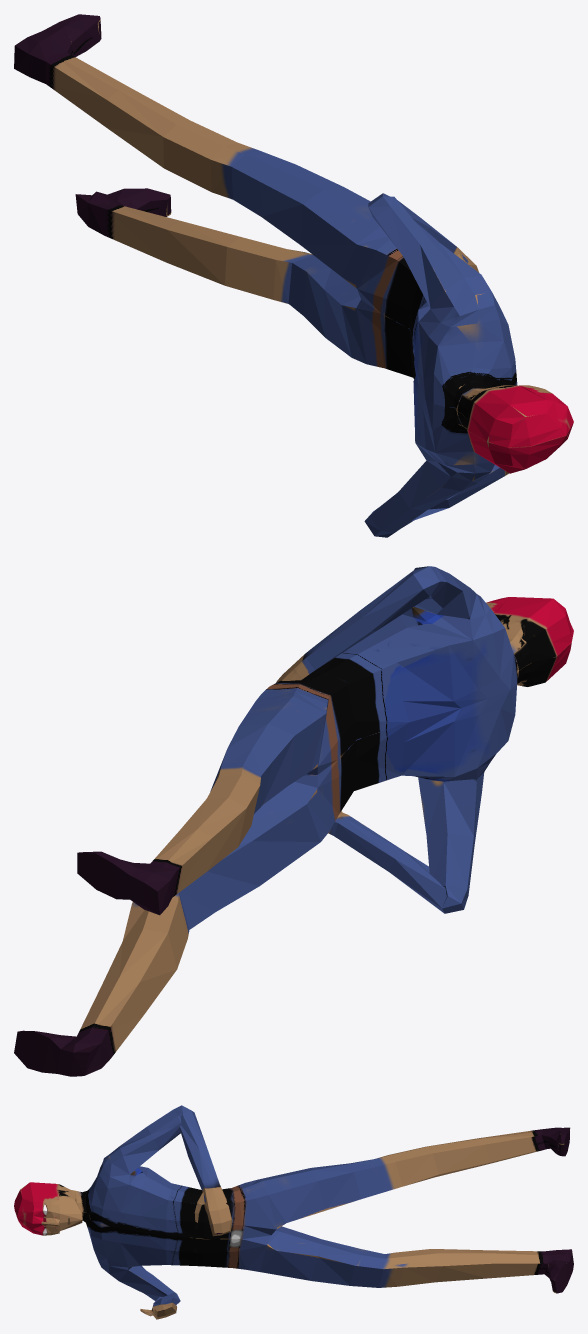
File: mirrorman_000016.obj
The picture shows the model from 3 angles, top to bottom: view 1: azimuth 30°, elevation 25°; view 2: azimuth 150°, elevation 25°; view 3: azimuth 270°, elevation 25°; orthographic projection. The views are drawn at different scales.
Visible parts, largest first — view 1: mirrorman_Cube.001_Material.001; view 2: mirrorman_Cube.001_Material.001; view 3: mirrorman_Cube.001_Material.001.
Part boxes in pixels (x1,y1,x2,y2): mirrorman_Cube.001_Material.001: (14,14,573,537); mirrorman_Cube.001_Material.001: (14,566,573,1076); mirrorman_Cube.001_Material.001: (14,1105,573,1319).
Bounding box in the file's own units: 0.5203 × 0.7541 × 1.86.
Materials: 1 (1 with a texture image).
